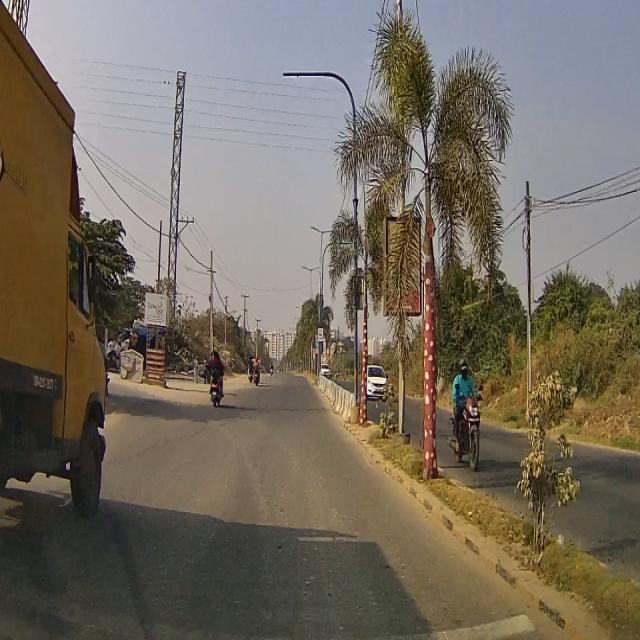truck ahead at: (0, 0, 107, 536)
